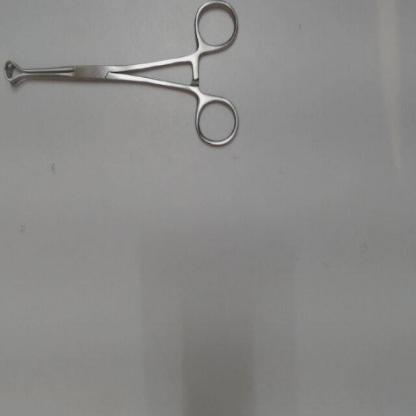Babcock Tissue Forceps: (0, 1, 242, 158)
